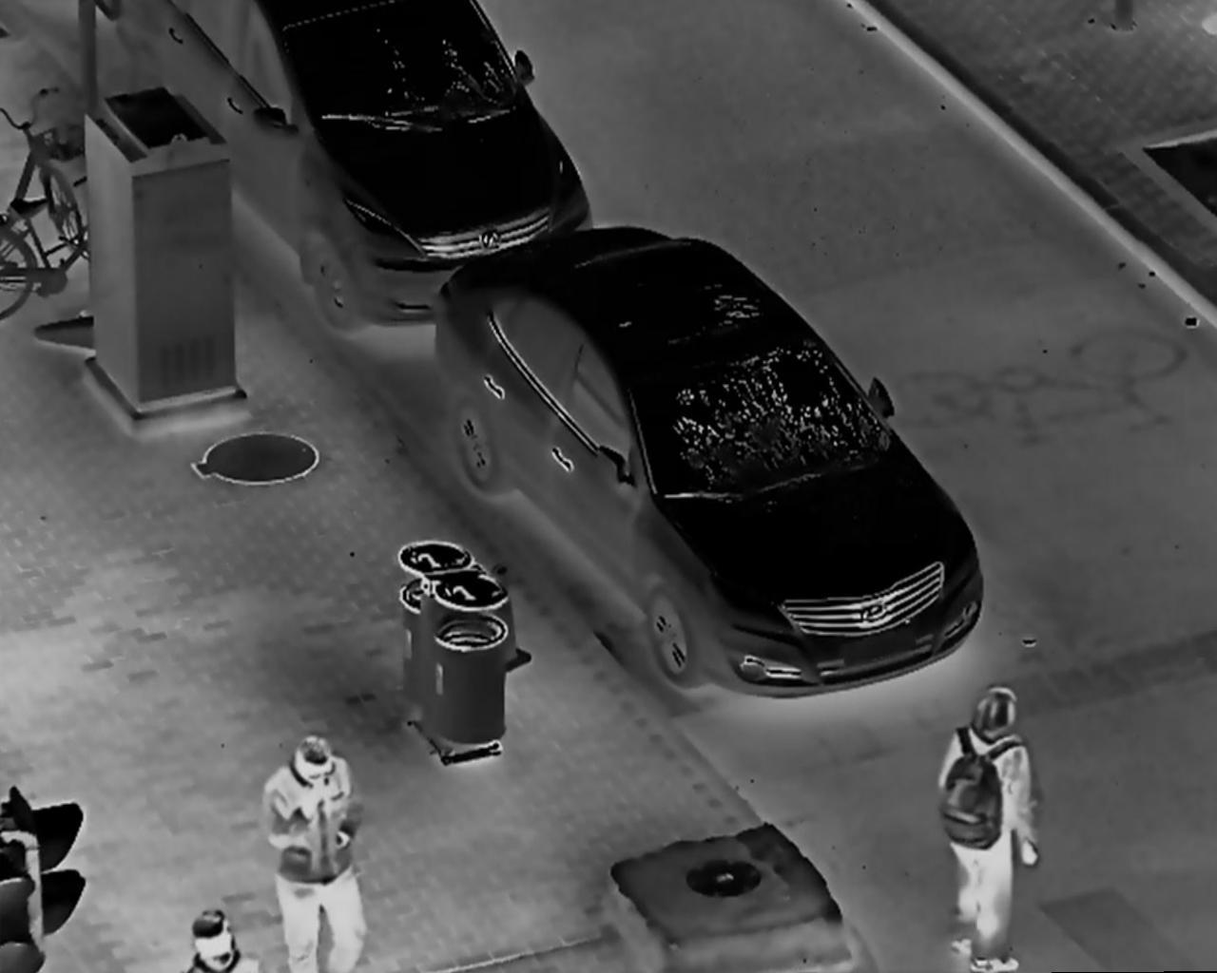person: (940, 682, 1044, 973), (258, 735, 372, 973), (176, 902, 270, 973)
